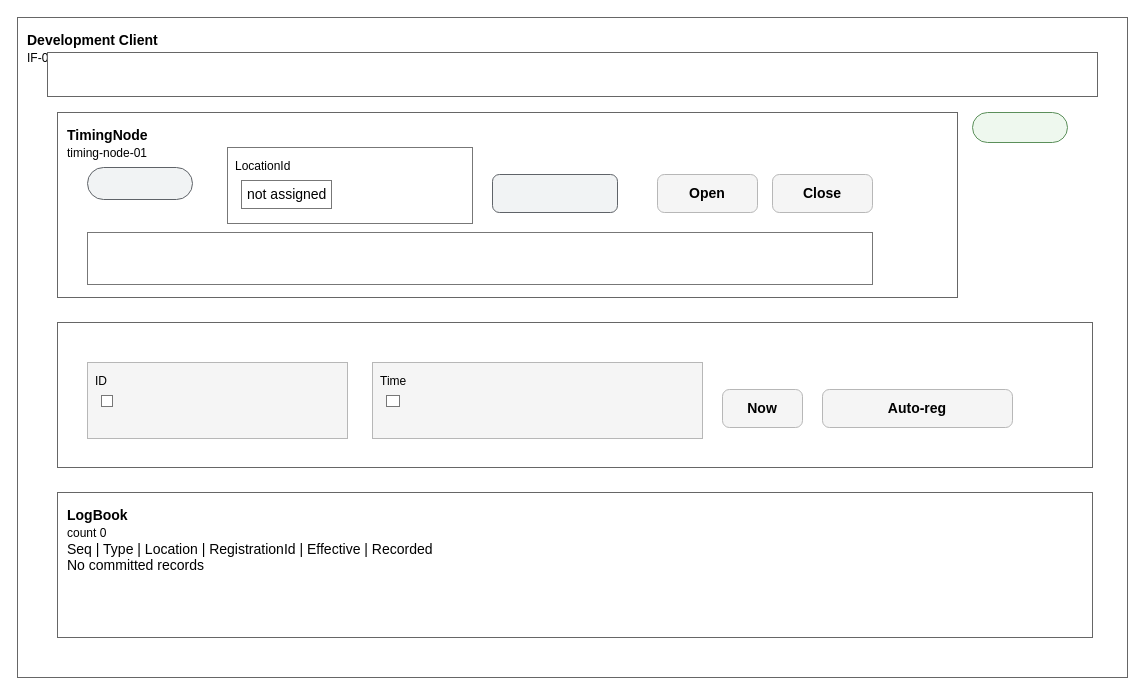
This 1145x695 diagram has some shape labels left out. The shapes that lost their labels are listed below. From the top down, each one's box as (x1, y1, x2, y2) in pixels, then its label:
(46, 52, 1098, 96): Status | Events | Timing | Terminal | Logs
(972, 112, 1068, 142): LIVE
(86, 166, 192, 200): CLOSED
(492, 174, 618, 212): Set location
(86, 232, 872, 284): Last operation No command executed
(56, 322, 1092, 468): Auto-reg Disabled while TimingNode is CLOSED
